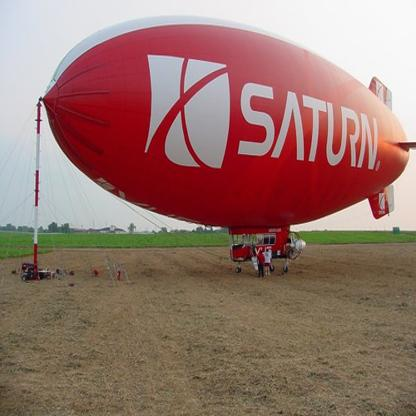Airship: (40, 11, 416, 279)
